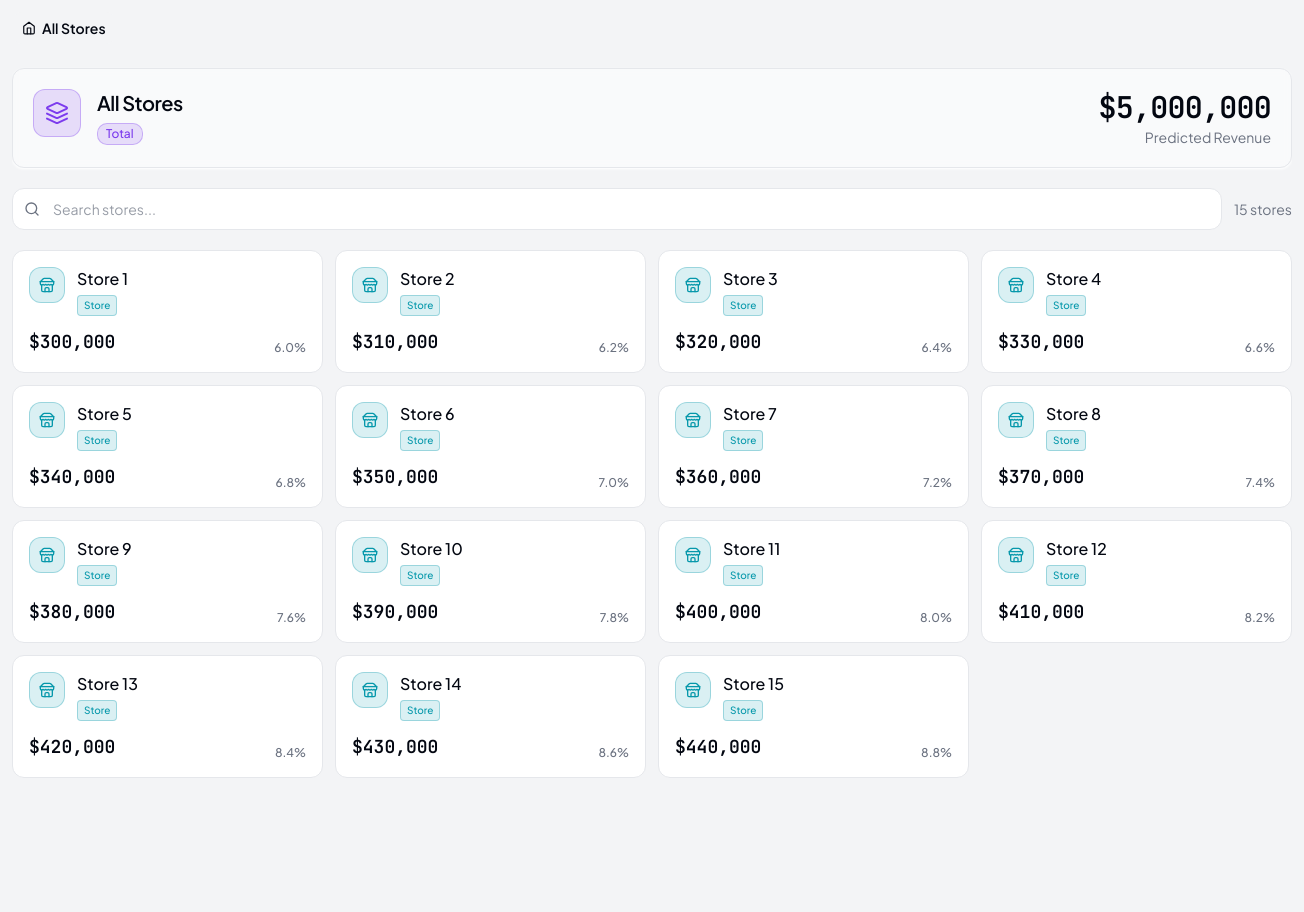
Test: HierarchyDrilldown › Search Functionality › shows empty state when no results match search
Type "nonexistent" into the field with placeholder "Search stores..." at (617, 209), box [12,188,1222,230]
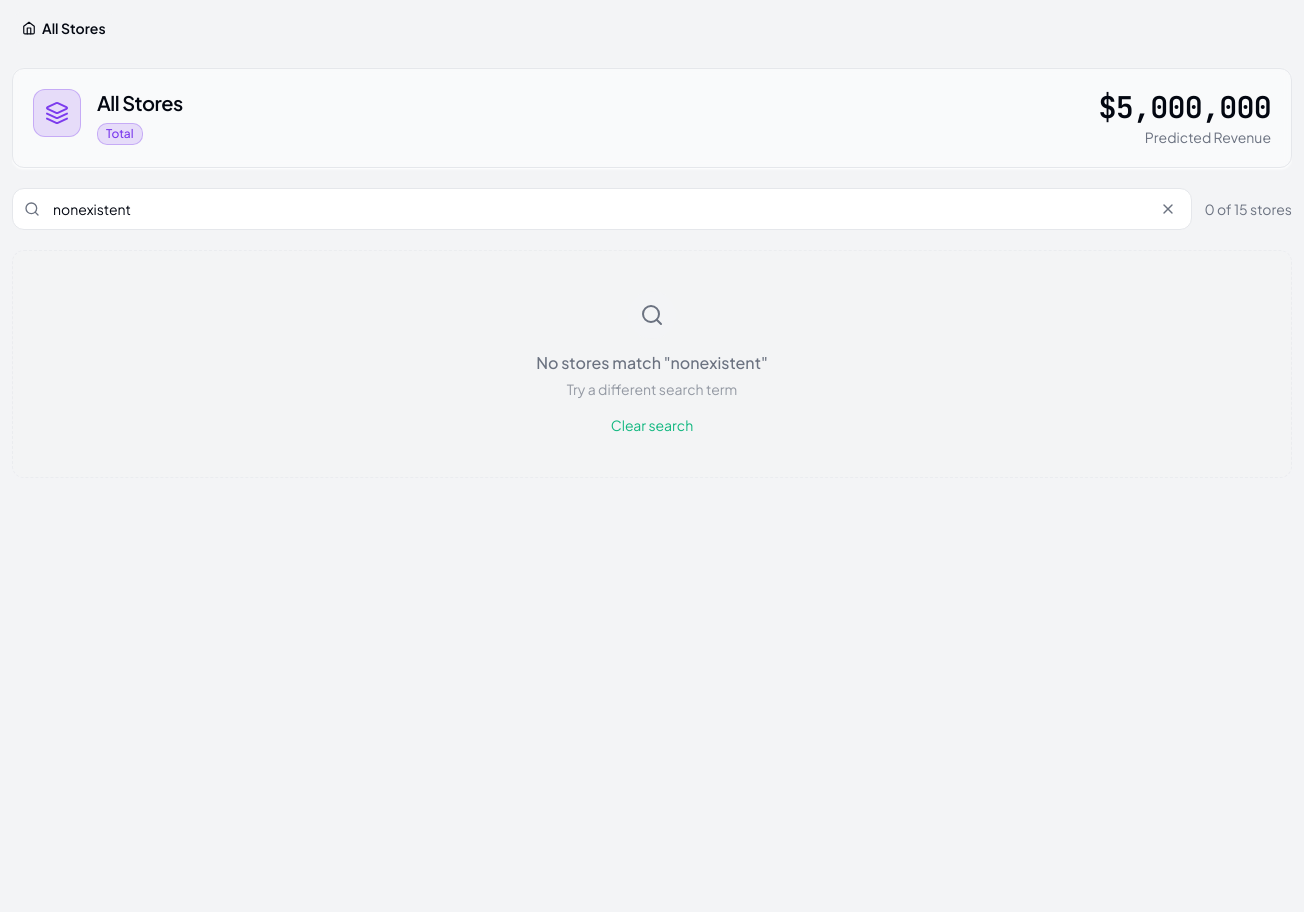
Expected: the text "No stores match \"nonexistent\"" is shown, [536,352,768,373]
